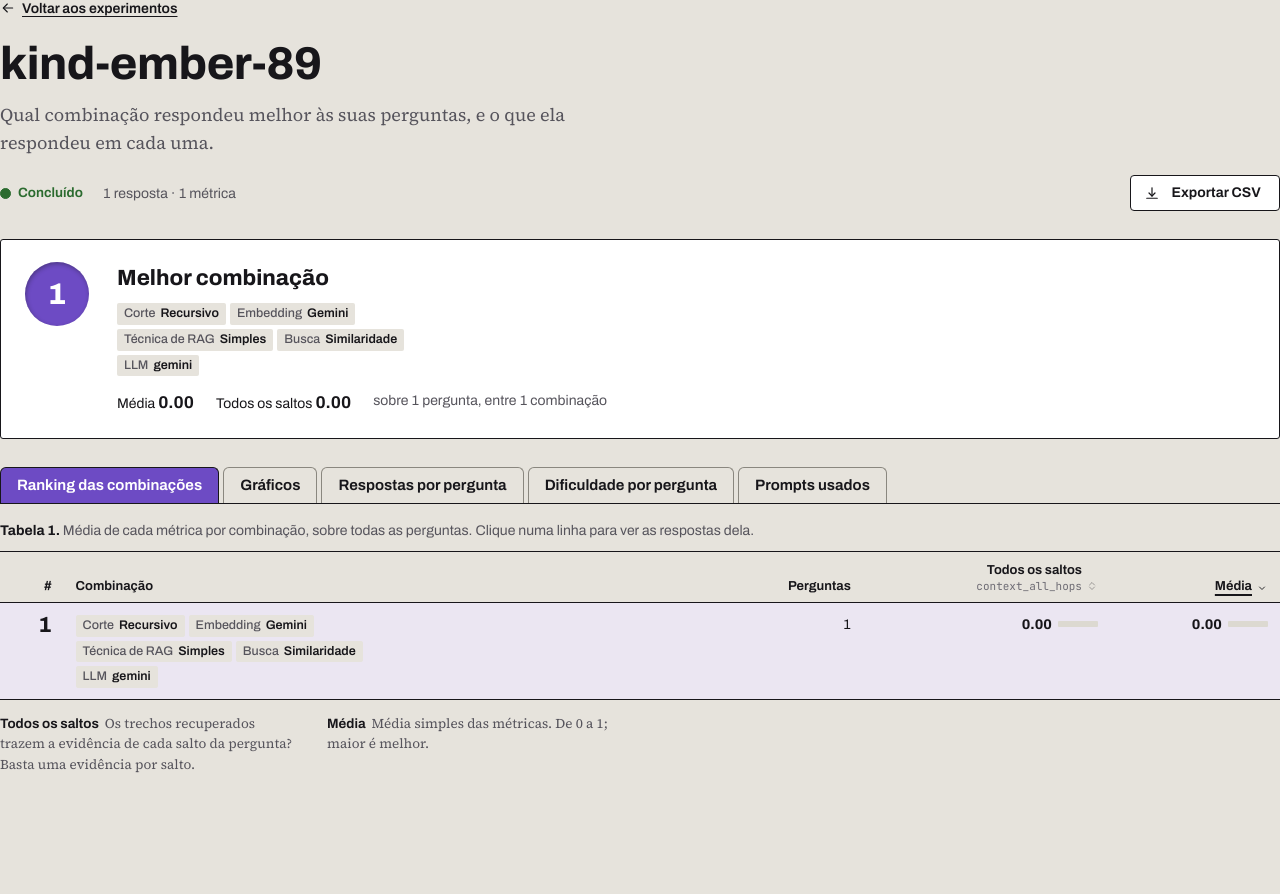
Test: ExperimentDetailPage › shows which hops were retrieved and which are missing in the drawer
Click the tab "Respostas por pergunta" at (422, 485), box [321, 467, 524, 503]
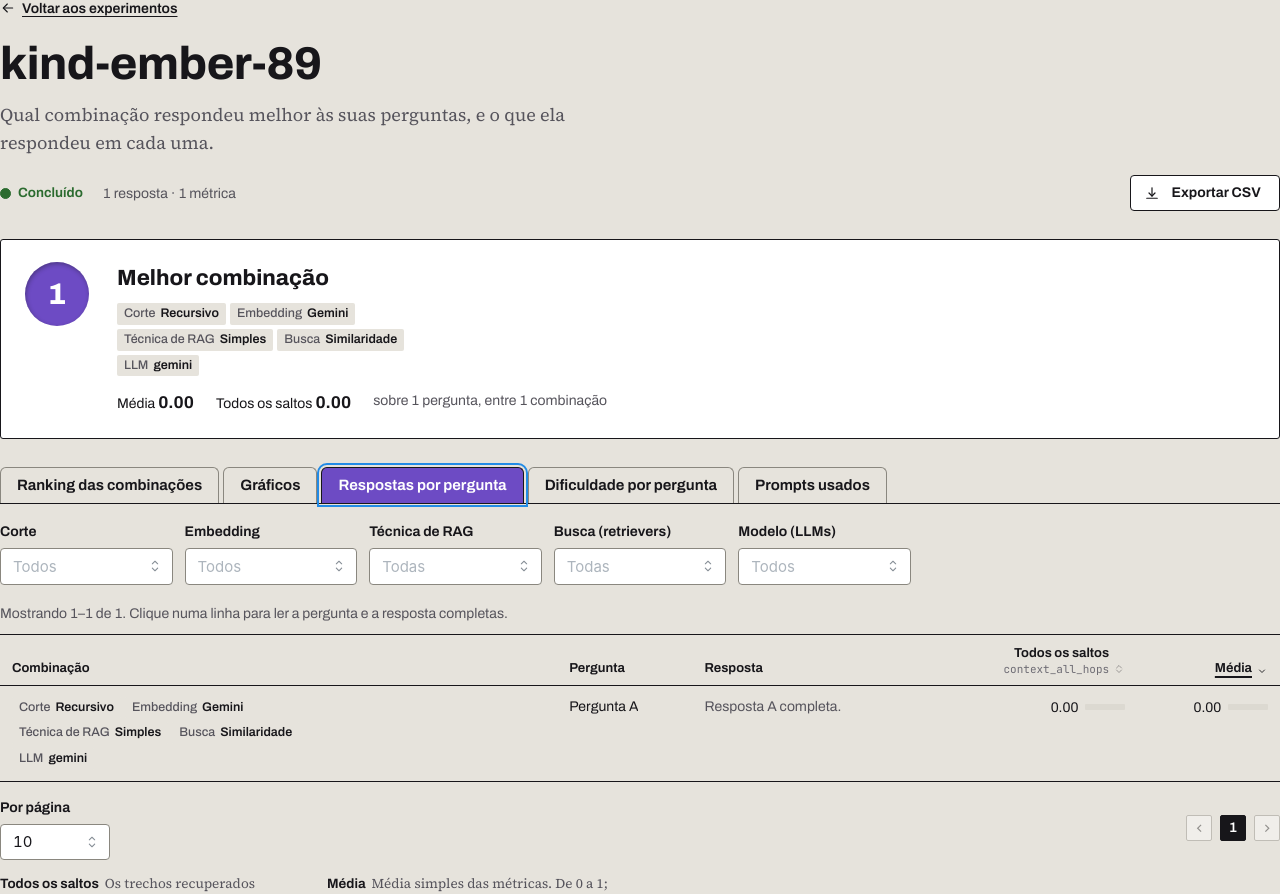
Click the button "Pergunta A" at (604, 706), box [569, 697, 638, 716]
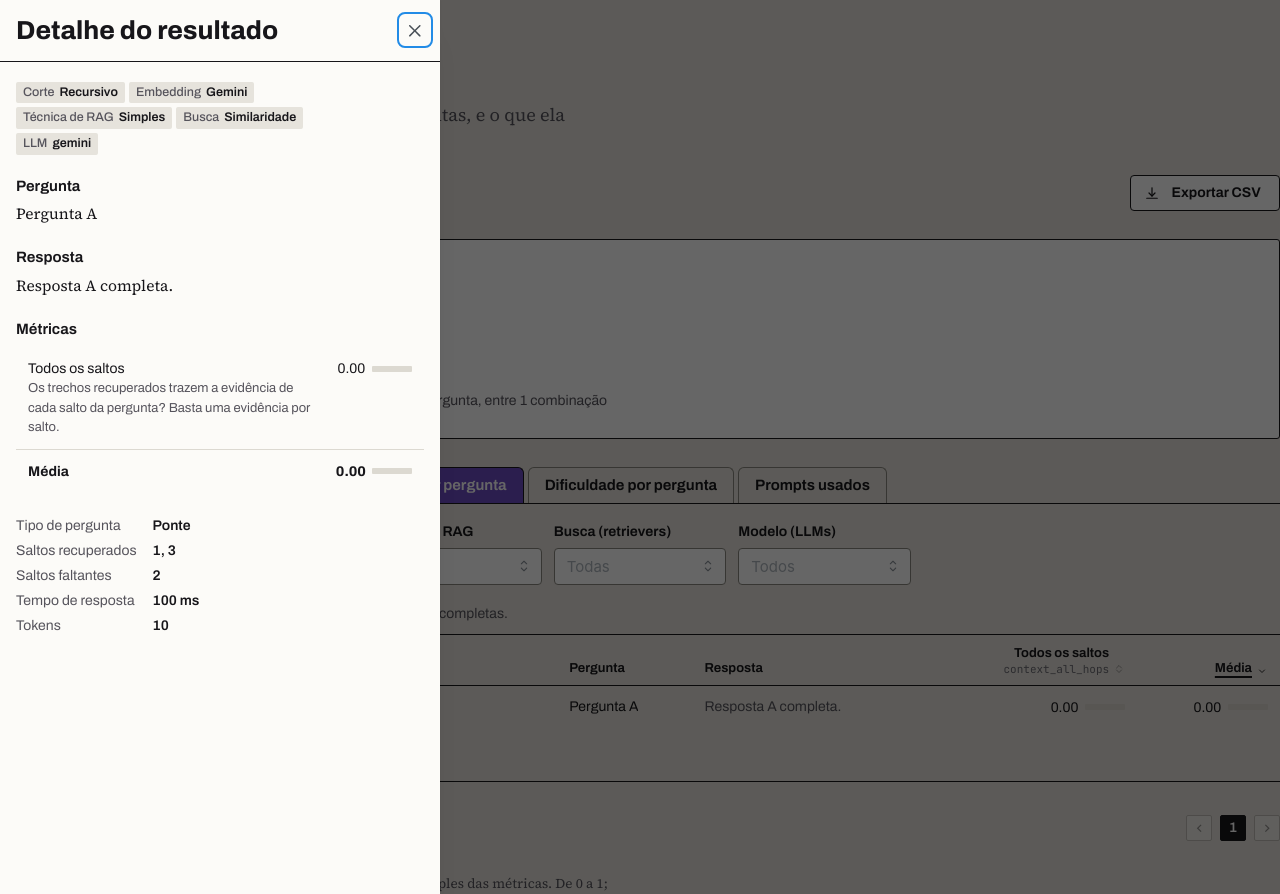
Now the text "1, 3" is shown, box [152, 543, 176, 558]
Now the text "2" is shown, box [152, 568, 161, 583]
Now the text "Todos os saltos" is shown, box [28, 361, 125, 376]
